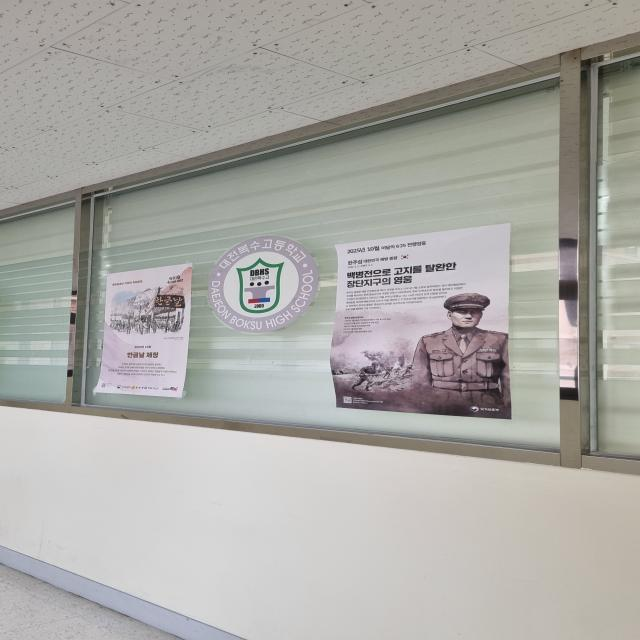logo: (204, 235, 322, 338)
